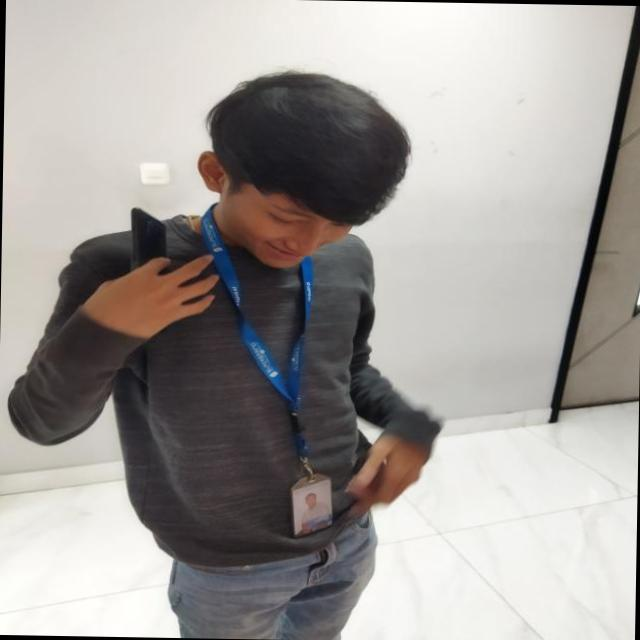id_card: (198, 196, 336, 526)
